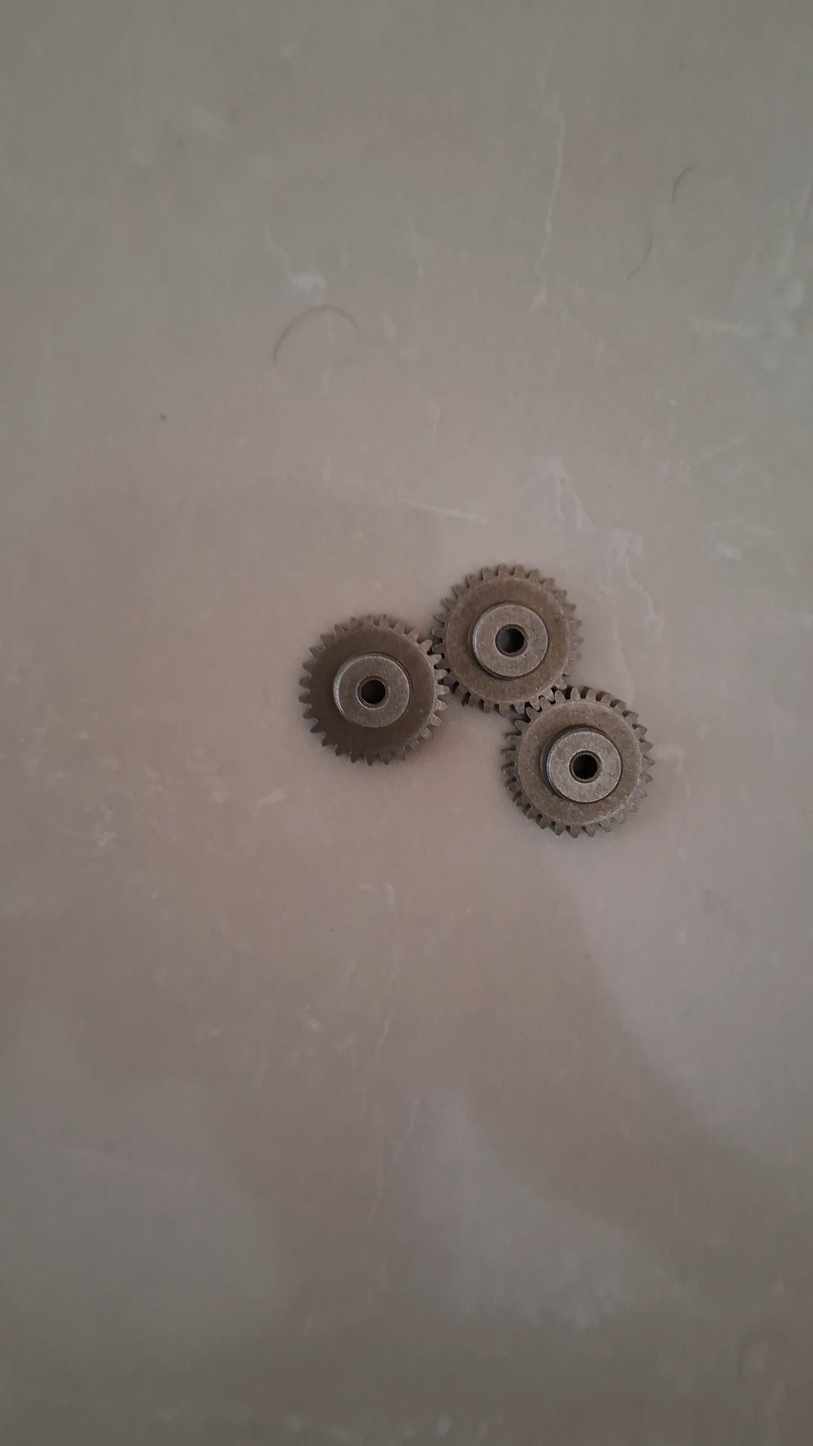spur gear: (433, 564, 581, 713), (504, 686, 651, 836), (300, 616, 448, 764)
